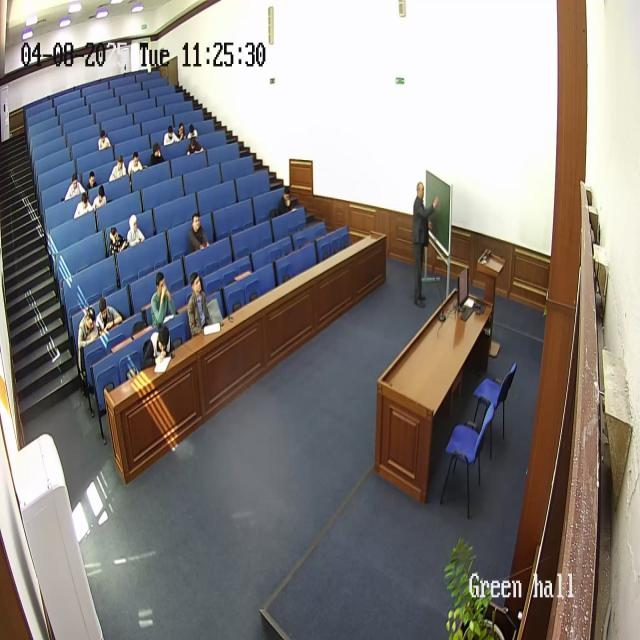person: (411, 179, 439, 305), (187, 271, 215, 337), (77, 303, 103, 373), (142, 322, 174, 370), (149, 269, 175, 328), (95, 296, 123, 338), (187, 212, 211, 252), (107, 223, 129, 255), (126, 213, 146, 247), (74, 188, 96, 218), (64, 174, 86, 201), (275, 187, 295, 216), (109, 152, 127, 181), (128, 150, 144, 180), (91, 184, 108, 212), (149, 140, 165, 166), (186, 134, 204, 156), (162, 124, 178, 148), (98, 128, 112, 151), (185, 123, 199, 145), (175, 123, 187, 143)
